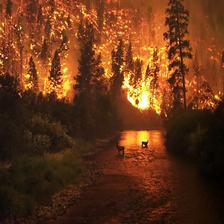fire: (6, 15, 181, 114)
